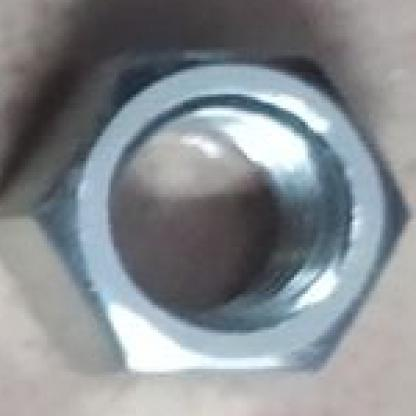FOD: (17, 17, 405, 394)
